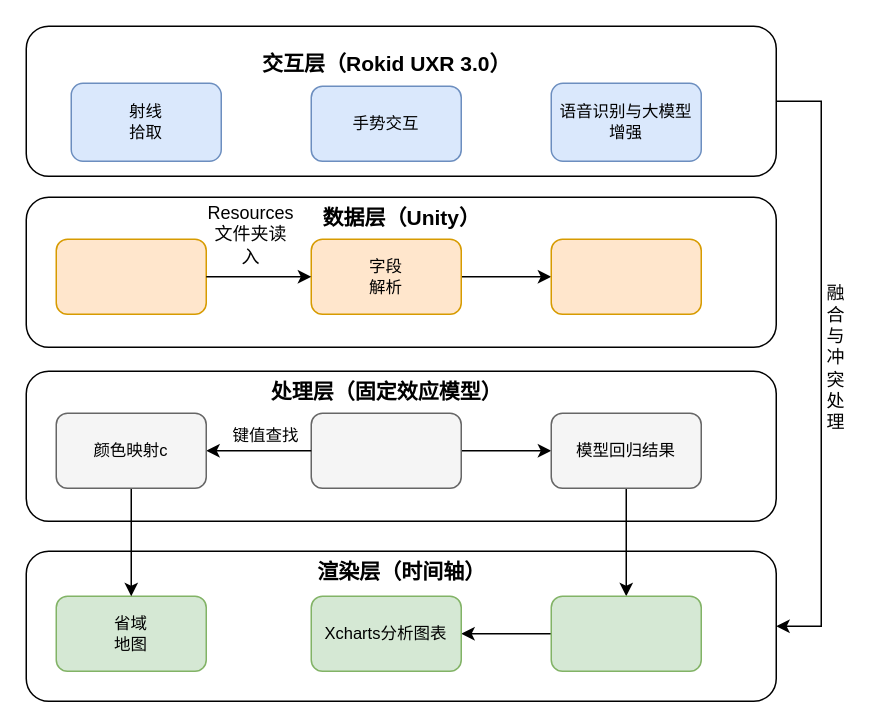
Some shapes in this 878 by 728 pixel diagram are drawn without their labels. The centre of each missing label's shape, as x and y in pixels:
归一化 n: (385,450)
按索引 (省,年)排序: (625,276)
数据 文件: (130,276)
结果 面板: (625,633)
